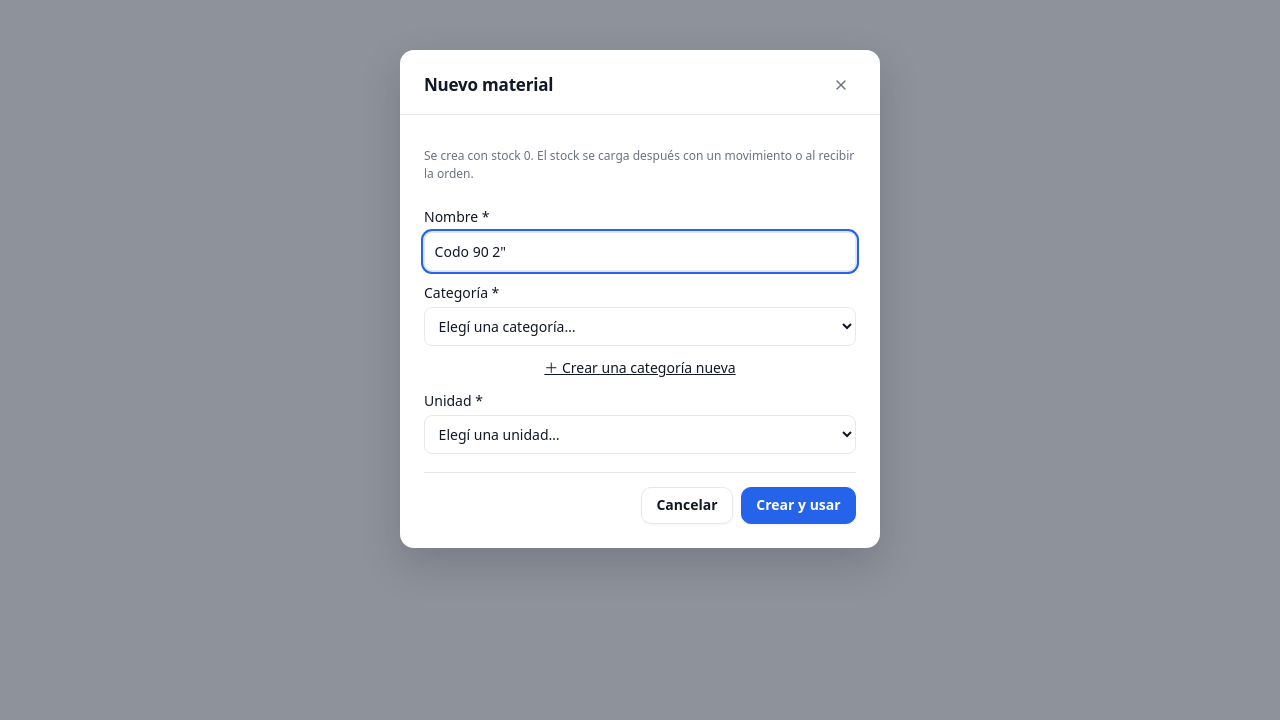
Test: NuevoMaterialRapido › si el que existe está desactivado, lo dice en vez de usarlo (y entiende las pulgadas)
Select "Bulonería" in the dropdown labelled "Categoría *" at [640, 327], box [424, 307, 856, 346]
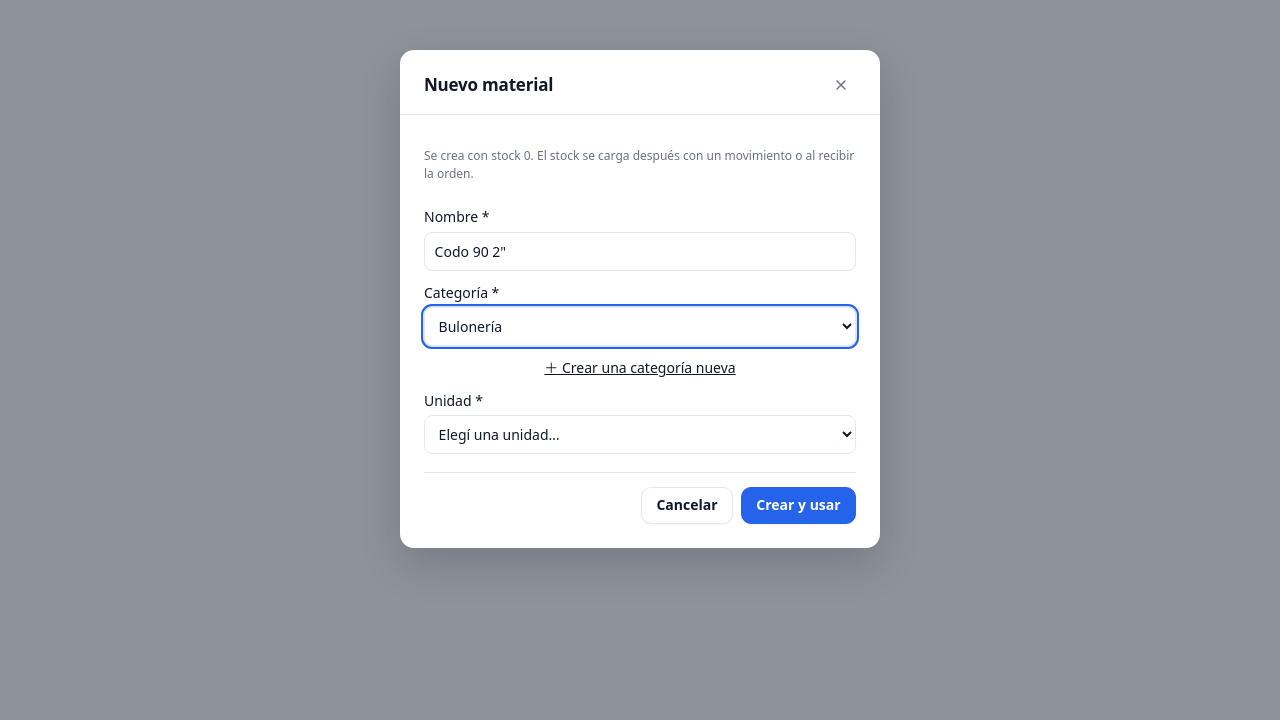
Select "Unidad (u)" in the dropdown labelled "Unidad *" at [640, 435], box [424, 415, 856, 454]
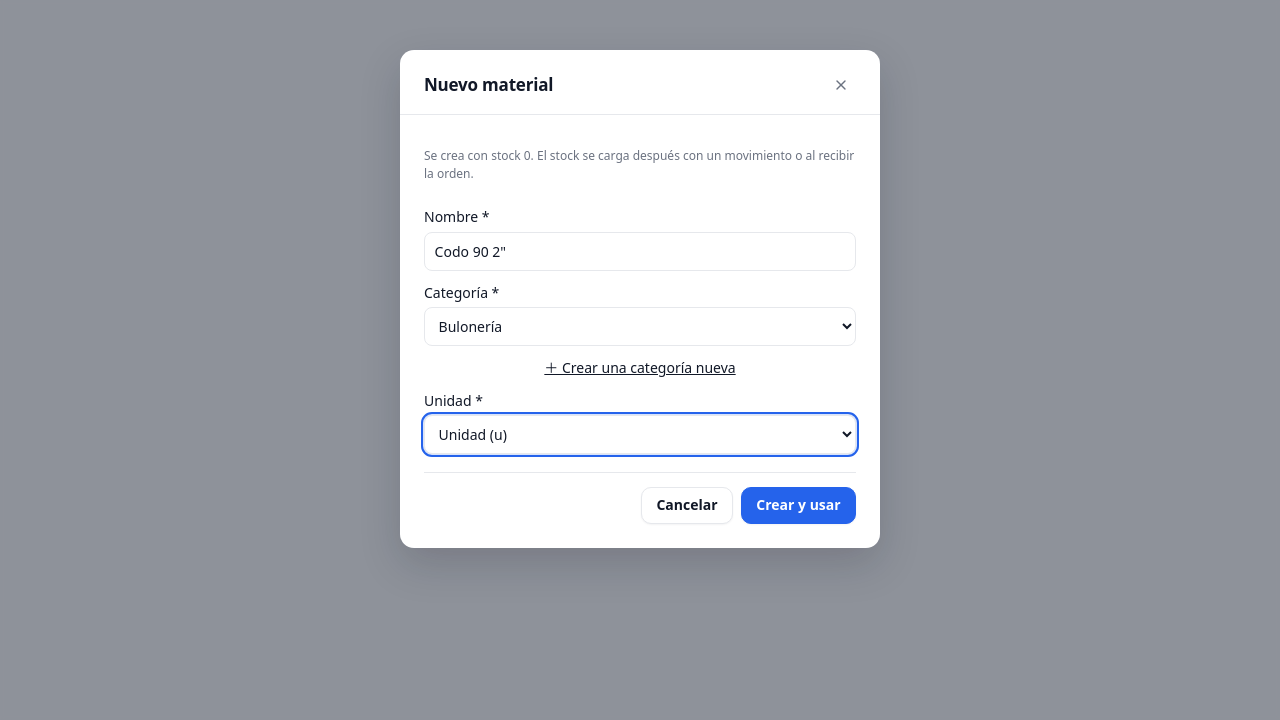
Click the button "Crear y usar" at [798, 506], box [741, 487, 856, 524]
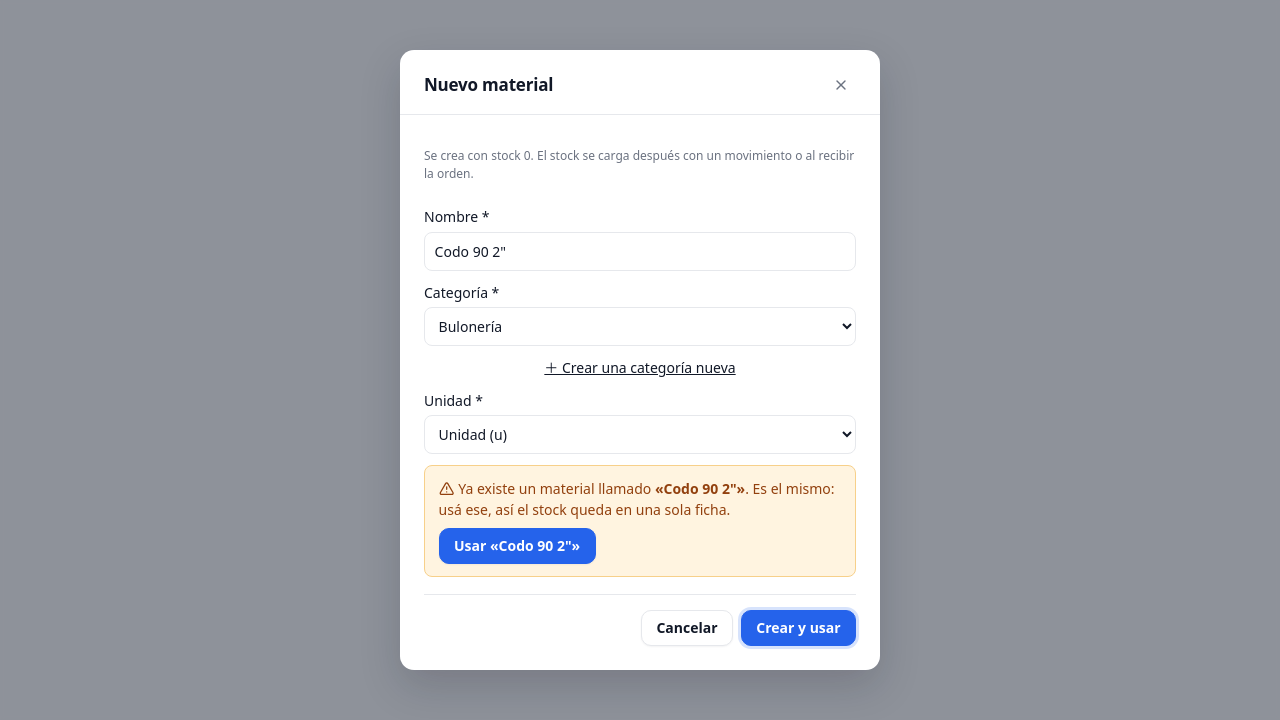
Click the button "Usar «Codo 90 2\"»" at [517, 546], box [439, 528, 596, 564]
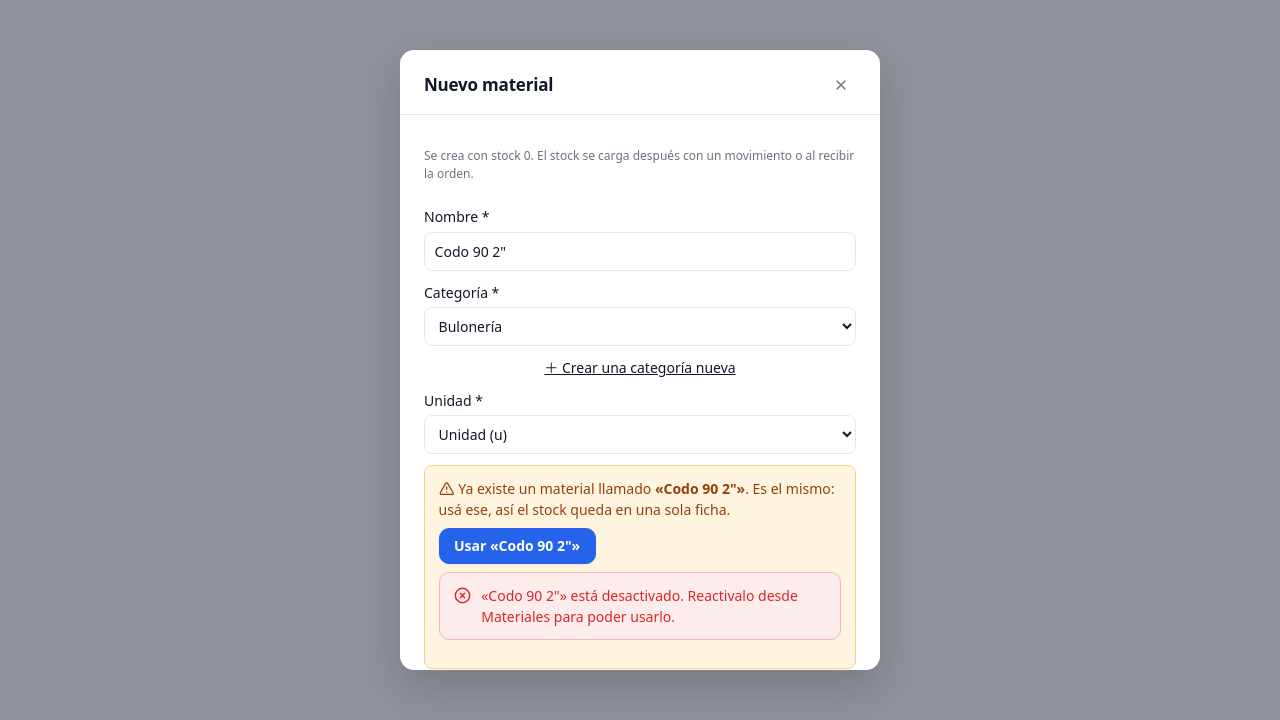
expect the text "está desactivado" is shown: met, box [481, 586, 798, 626]
